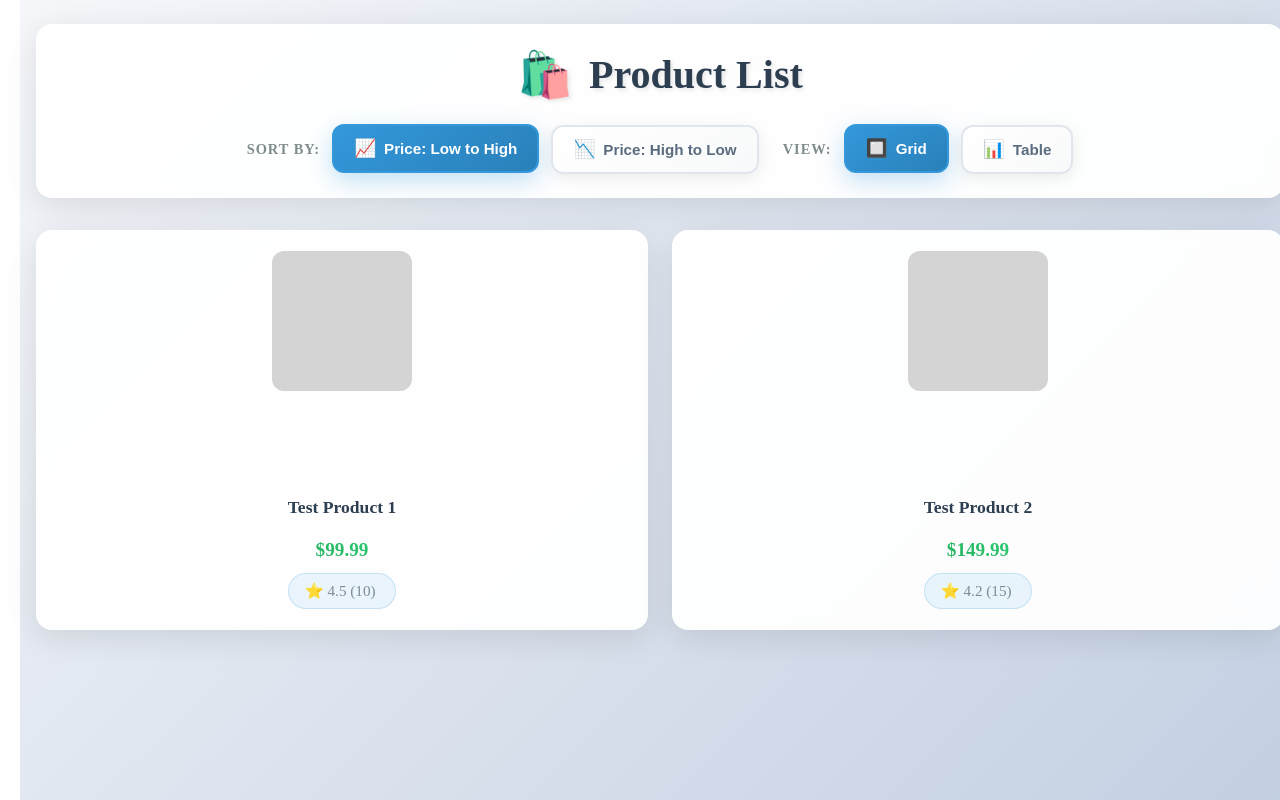
ProductList › switches to table view when table button is clicked
The width and height of the screenshot is (1280, 800).
Expected: the heading "Test Product 1" is shown, [288,495,396,520]
Note: Now click the table button
What coordinates should you click on to do the following:
click the button "📊 Table"
I would click on:
 (1017, 150)
Its box is [961,125,1073,174].
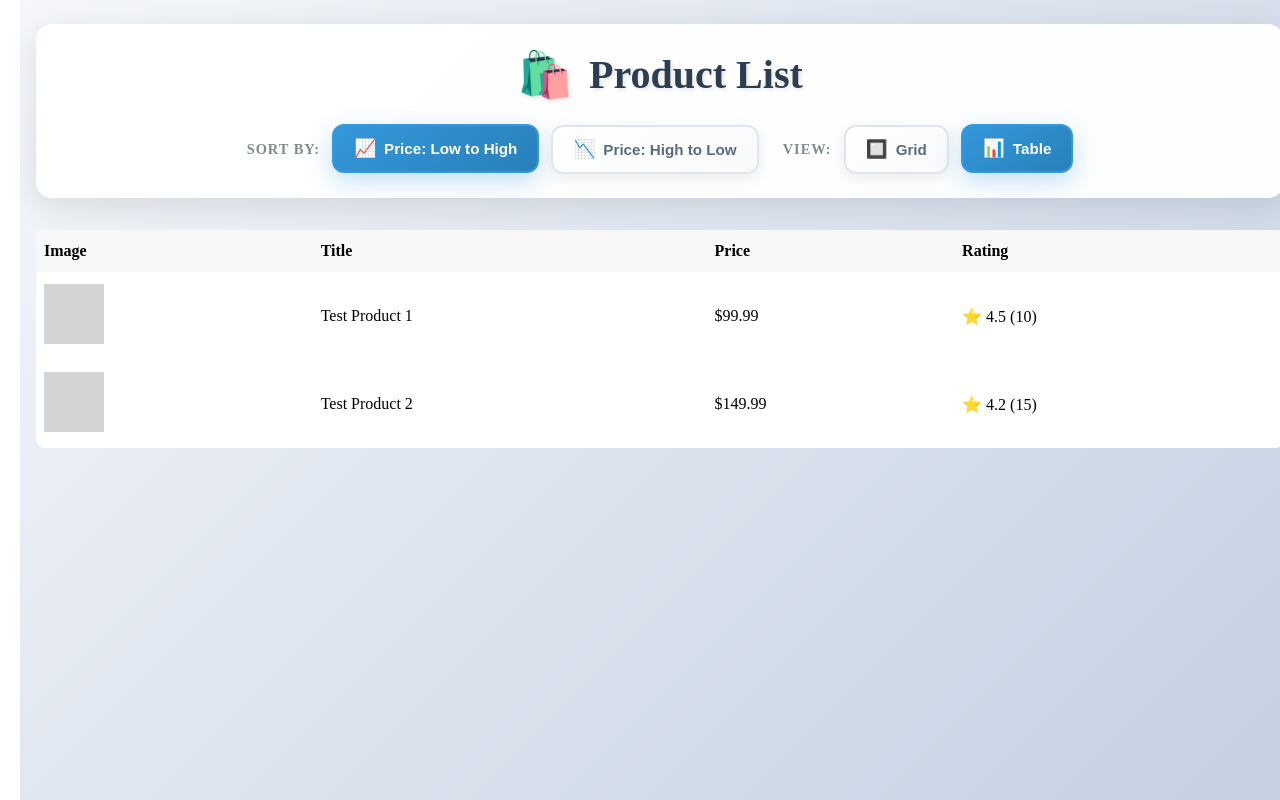
Expected: the column heading "Image" is shown, [36,230,313,272]
Expected: the column heading "Title" is shown, [313,230,707,272]
Expected: the column heading "Price" is shown, [706,230,954,272]
